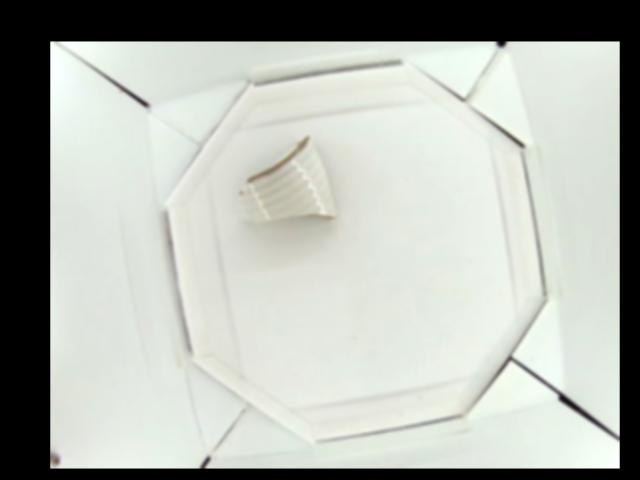China: (236, 135, 341, 222)
